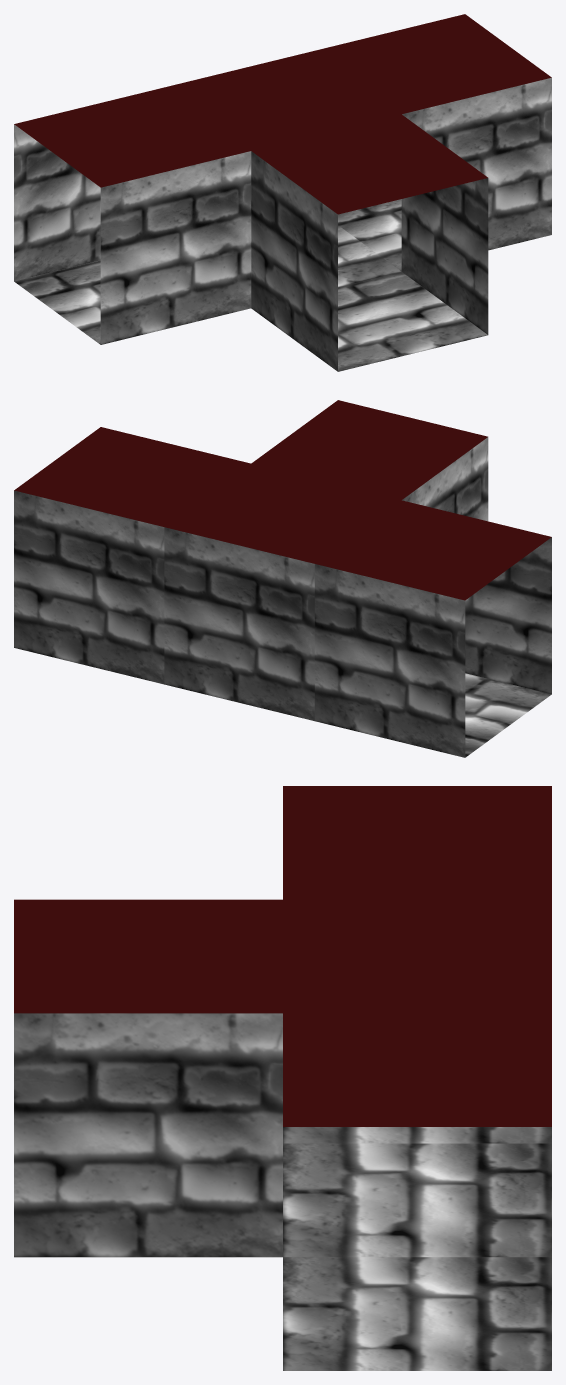
File: zamek_T1.fbx
The picture shows the model from 3 angles, top to bottom: view 1: azimuth 30°, elevation 25°; view 2: azimuth 150°, elevation 25°; view 3: azimuth 270°, elevation 25°; orthographic projection. The views are drawn at different scales.
Parts seen in each view (by area): view 1: Plane.198; view 2: Plane.198; view 3: Plane.198.
Boxes of the visible parts, left/top/right/bottom form: Plane.198: left=14, top=14, right=551, bottom=371; Plane.198: left=14, top=400, right=551, bottom=757; Plane.198: left=14, top=786, right=551, bottom=1370.
Size of the model in its own units: 1200 by 400 by 800.
3 materials, 2 textured.
